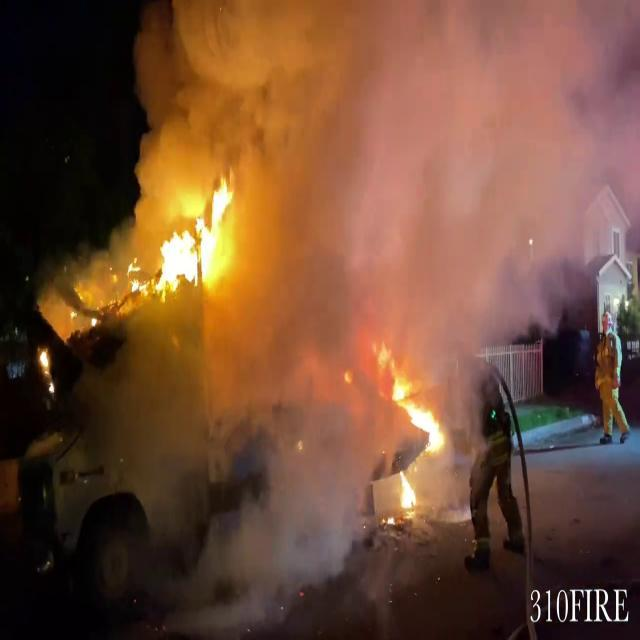Fire: (372, 345, 453, 515), (146, 176, 240, 294)
Smoke: (111, 0, 640, 332)
